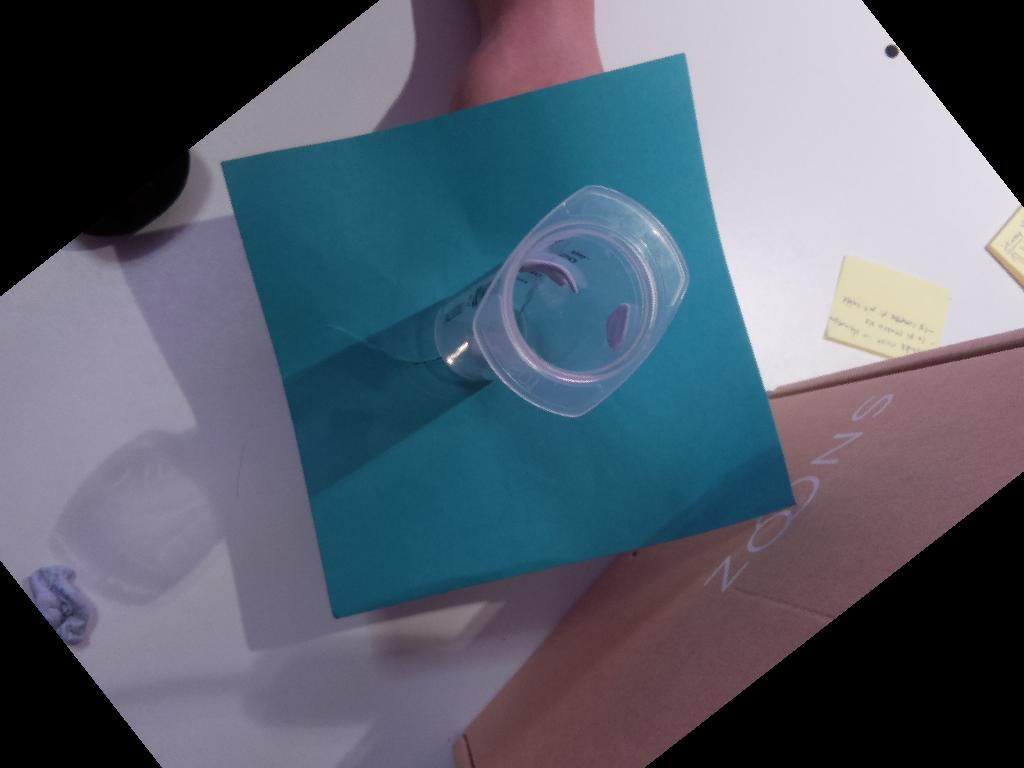dirty: (473, 182, 691, 417)
